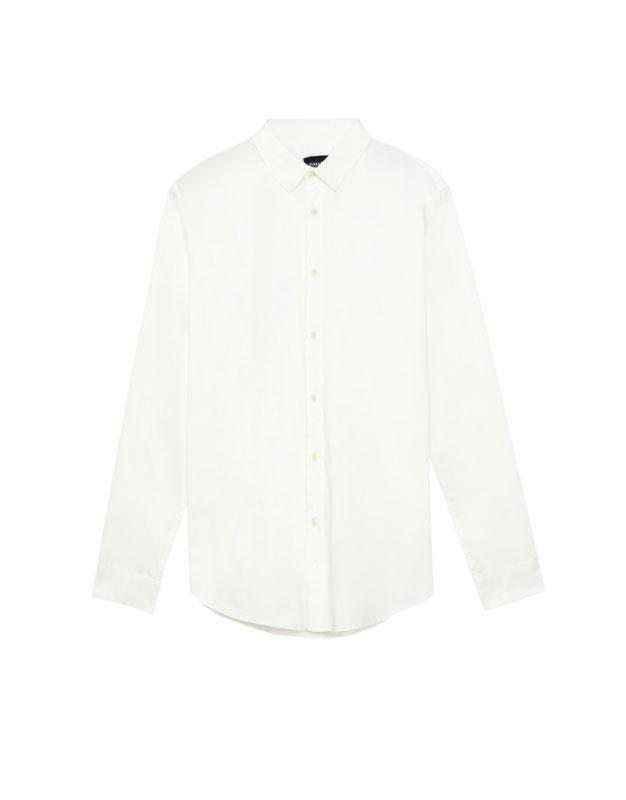teeshirt: (100, 111, 551, 641)
